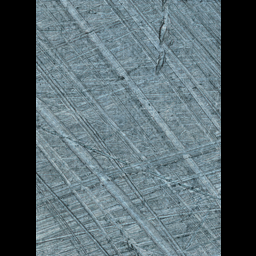d: (150, 0, 176, 77)
